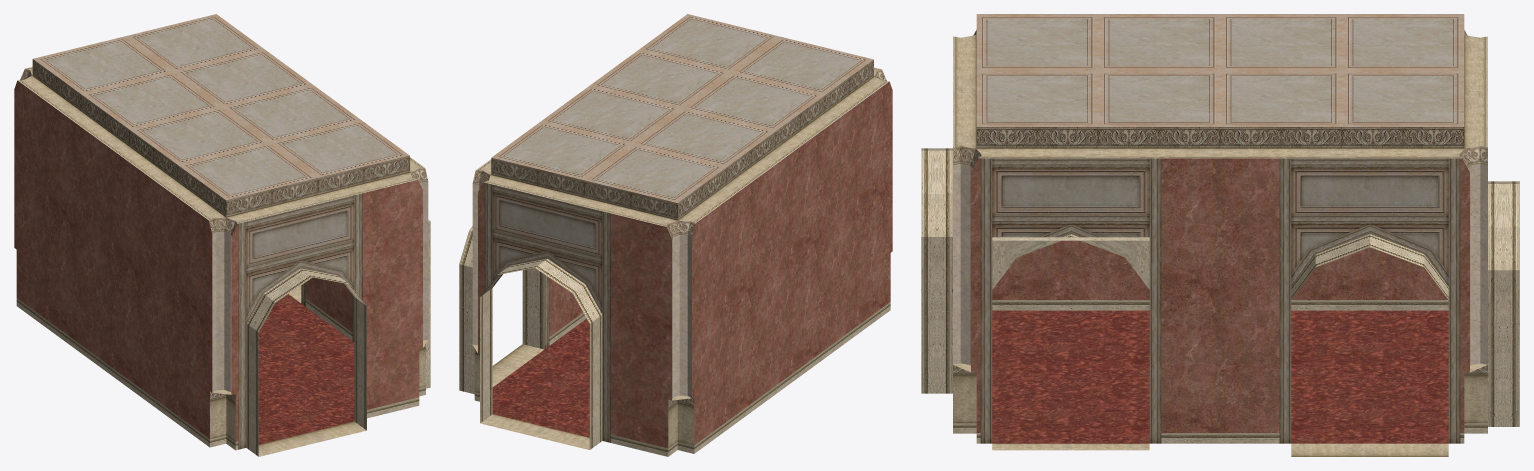
The model's file is ply_nboo_house_lg_s01_fp1_r3_hall2_mesh_r3.fbx.
3 renders of one model, left to right at view 1: azimuth 30°, elevation 25°; view 2: azimuth 150°, elevation 25°; view 3: azimuth 270°, elevation 25°, orthographic. The views are drawn at different scales.
Visible parts, largest first — view 1: mesh_node; view 2: mesh_node; view 3: mesh_node.
Boxes of the visible parts, left/top/right/bottom form: mesh_node: left=14, top=14, right=430, bottom=456; mesh_node: left=459, top=14, right=892, bottom=456; mesh_node: left=921, top=14, right=1519, bottom=456.
Bounding box in the file's own units: 4.4 × 4.3 × 7.6.
